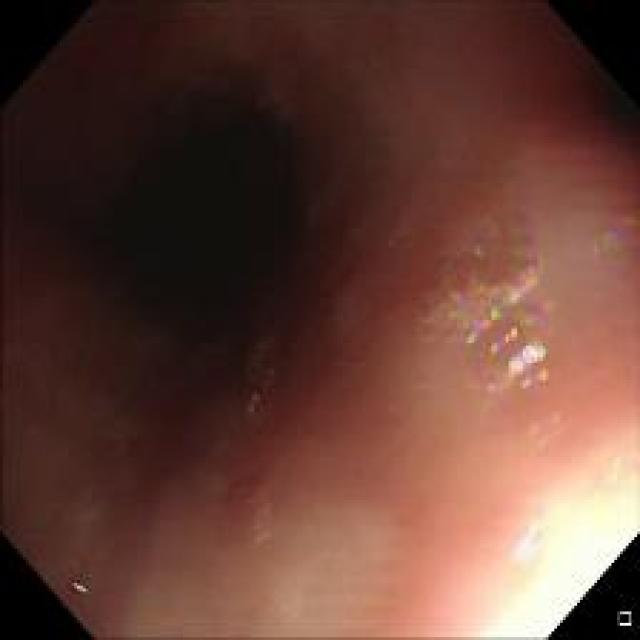bubbles: (241, 320, 284, 372)
color misalignment: (408, 202, 554, 402), (588, 202, 638, 264), (522, 408, 575, 448), (244, 389, 264, 418)
contrast: (74, 81, 300, 375)
saturation: (474, 444, 638, 638)
specularity: (511, 521, 542, 560), (69, 576, 96, 600)
